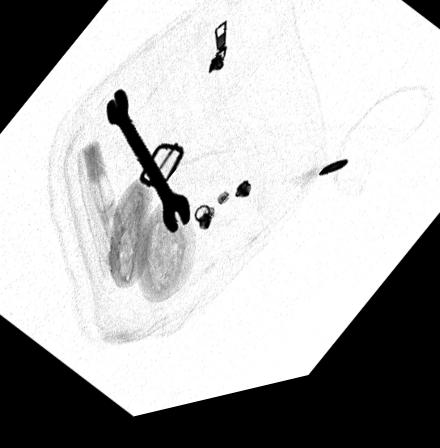Wrench: (104, 92, 192, 243)
